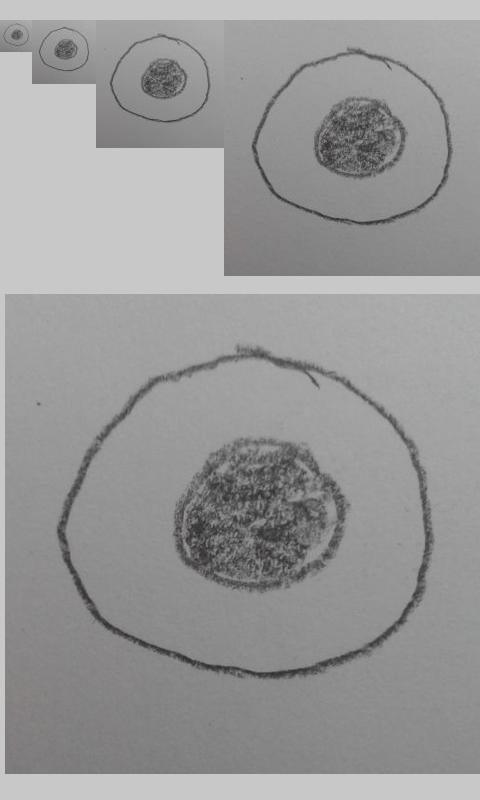radio_button: (57, 346, 434, 679), (251, 47, 453, 226), (109, 33, 212, 123), (38, 26, 90, 72), (2, 22, 30, 47)
